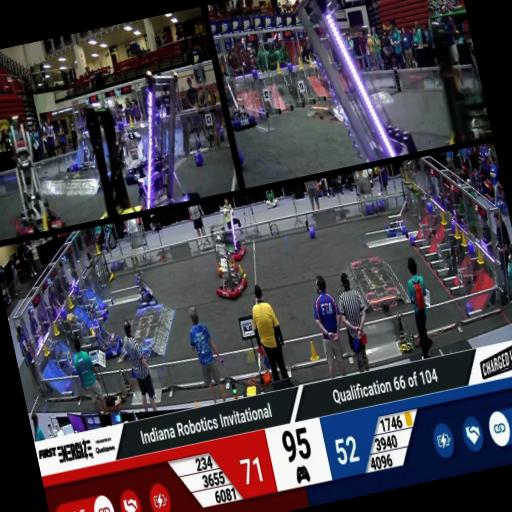robot: (286, 0, 415, 170), (118, 66, 198, 207), (422, 4, 492, 144), (74, 96, 142, 217), (0, 146, 66, 239), (114, 118, 156, 186), (85, 298, 125, 360), (222, 68, 259, 132), (213, 203, 249, 262), (212, 256, 252, 302), (208, 222, 238, 276), (130, 270, 158, 308), (381, 212, 407, 238)
